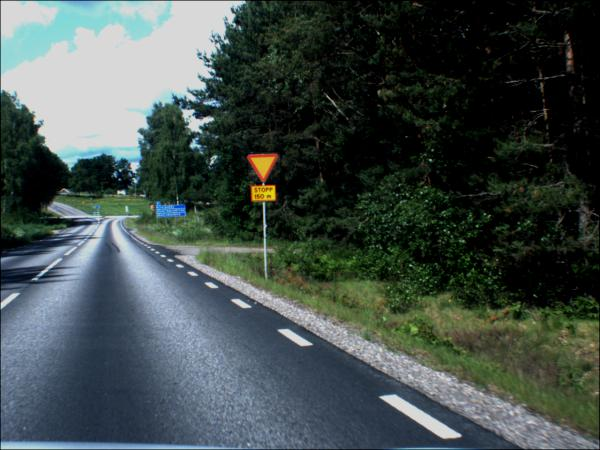GIVE_WAY: (249, 153, 282, 185)
PASS_RIGHT_SIDE: (98, 207, 101, 211)
STOP: (152, 206, 156, 211)
